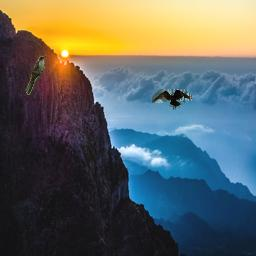Crow: (152, 89, 192, 110)
Cuckoo: (26, 55, 46, 95)
